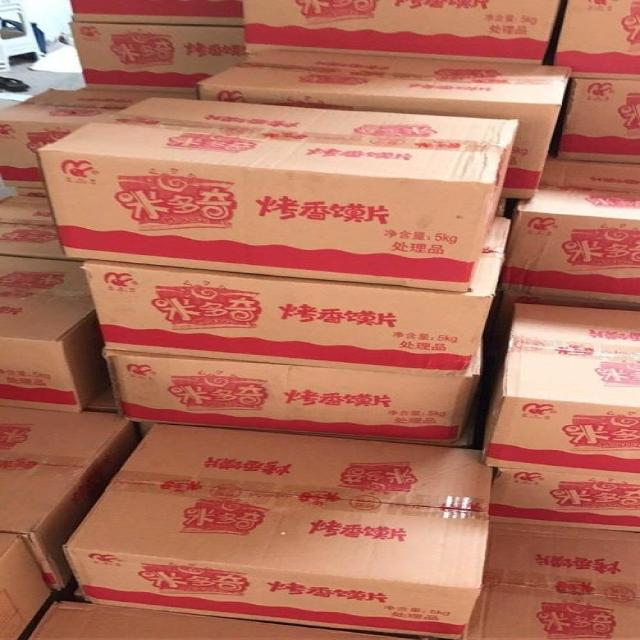box: (37, 96, 521, 291), (65, 423, 494, 639), (82, 217, 511, 377), (198, 50, 572, 199), (105, 335, 483, 444), (480, 302, 640, 479), (0, 405, 142, 589), (458, 523, 639, 639), (243, 0, 564, 65), (0, 86, 198, 187), (27, 599, 454, 640), (0, 256, 111, 410), (498, 189, 640, 303), (69, 22, 251, 88), (490, 467, 640, 533), (549, 78, 640, 164), (548, 0, 640, 80), (490, 291, 640, 336), (0, 531, 52, 640), (0, 194, 83, 261), (535, 148, 639, 196), (68, 0, 246, 26), (81, 386, 119, 412), (14, 186, 46, 197)
